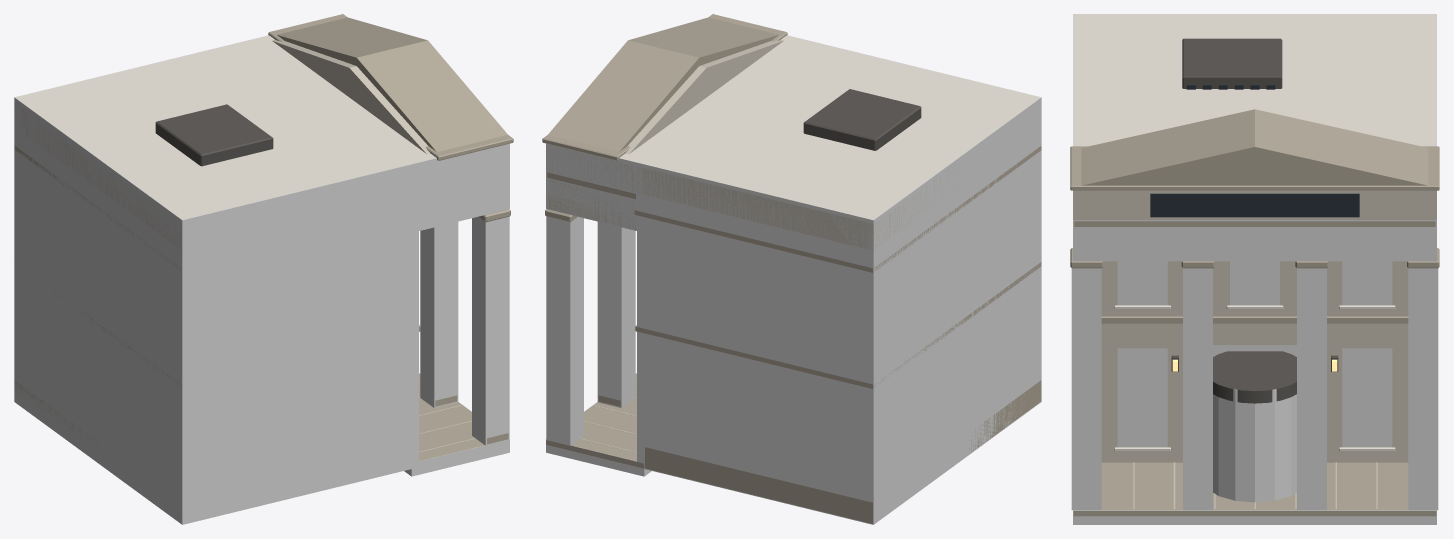
3 renders of one model, left to right at view 1: azimuth 30°, elevation 25°; view 2: azimuth 150°, elevation 25°; view 3: azimuth 270°, elevation 25°, orthographic. The views are drawn at different scales.
Parts seen in each view (by area): view 1: col_core, T01_body, col_column_-4, col_column_-1, col_attic, col_portico_floor; view 2: col_core, T01_body, col_column_+4, col_column_+1, col_attic, col_portico_floor; view 3: T01_body, col_core, col_attic, col_drum, col_column_+4, col_column_-4, col_column_+1, col_column_-1, col_portico_floor.
Part boxes in pixels (x1,y1,x2,y2): col_core: (14,39,418,524); T01_body: (14,14,513,461); col_column_-4: (472,216,509,445); col_column_-1: (420,221,458,407); col_attic: (251,35,509,232); col_portico_floor: (404,373,509,476); col_core: (637,39,1041,524); T01_body: (542,14,1041,523); col_column_+4: (546,216,583,445); col_column_+1: (597,221,635,407); col_attic: (546,35,804,232); col_portico_floor: (546,373,651,476); T01_body: (1070,14,1439,516); col_core: (1073,14,1436,447); col_attic: (1073,139,1436,261); col_drum: (1213,389,1296,502); col_column_+4: (1408,268,1438,510); col_column_-4: (1071,268,1101,510); col_column_+1: (1297,268,1326,510); col_column_-1: (1183,268,1212,510); col_portico_floor: (1073,510,1436,524).
Bounding box in the file's own units: 9.08 × 9.2 × 8.12.
